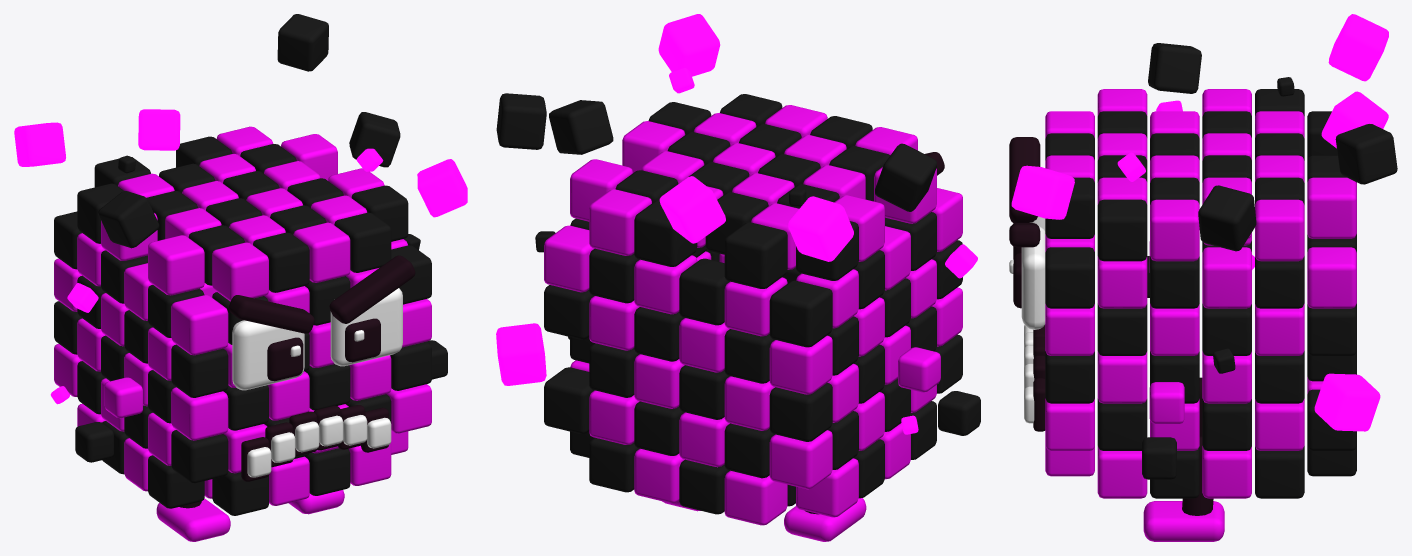
The model's file is Corrupto.glb.
3 views of the same model, side by side, from view 1: azimuth 30°, elevation 25°; view 2: azimuth 150°, elevation 25°; view 3: azimuth 270°, elevation 25° (orthographic). The views are drawn at different scales.
Parts seen in each view (by area): view 1: Black__SmoothPlastic__141414, Magenta__SmoothPlastic__FF00FF, Dark__SmoothPlastic__1B0612, White__SmoothPlastic__FFFFFF, Glitch__Neon__FF00FF; view 2: Black__SmoothPlastic__141414, Magenta__SmoothPlastic__FF00FF, Glitch__Neon__FF00FF; view 3: Black__SmoothPlastic__141414, Magenta__SmoothPlastic__FF00FF, Glitch__Neon__FF00FF, Dark__SmoothPlastic__1B0612, White__SmoothPlastic__FFFFFF.
Boxes of the visible parts, <box> form: Black__SmoothPlastic__141414: <box>54,14,447,515</box>; Magenta__SmoothPlastic__FF00FF: <box>54,126,431,541</box>; Dark__SmoothPlastic__1B0612: <box>179,255,415,508</box>; White__SmoothPlastic__FFFFFF: <box>232,288,402,477</box>; Glitch__Neon__FF00FF: <box>14,109,467,404</box>; Black__SmoothPlastic__141414: <box>496,93,980,514</box>; Magenta__SmoothPlastic__FF00FF: <box>544,105,962,541</box>; Glitch__Neon__FF00FF: <box>496,14,977,434</box>; Black__SmoothPlastic__141414: <box>1045,43,1397,498</box>; Magenta__SmoothPlastic__FF00FF: <box>1045,89,1356,541</box>; Glitch__Neon__FF00FF: <box>1011,14,1388,431</box>; Dark__SmoothPlastic__1B0612: <box>1009,137,1213,515</box>; White__SmoothPlastic__FFFFFF: <box>1009,216,1045,423</box>.
Size of the model in its own units: 6.21 by 6.37 by 5.04.
